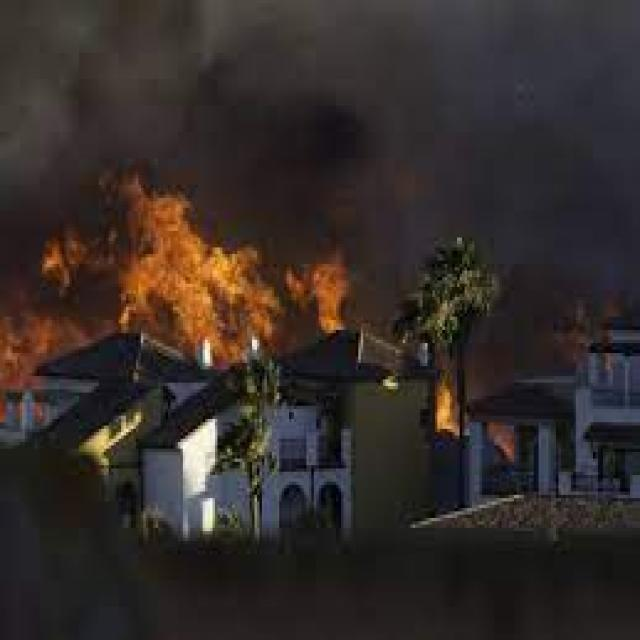Fire: (28, 178, 356, 356)
Smoke: (0, 0, 387, 288), (359, 8, 640, 264)
